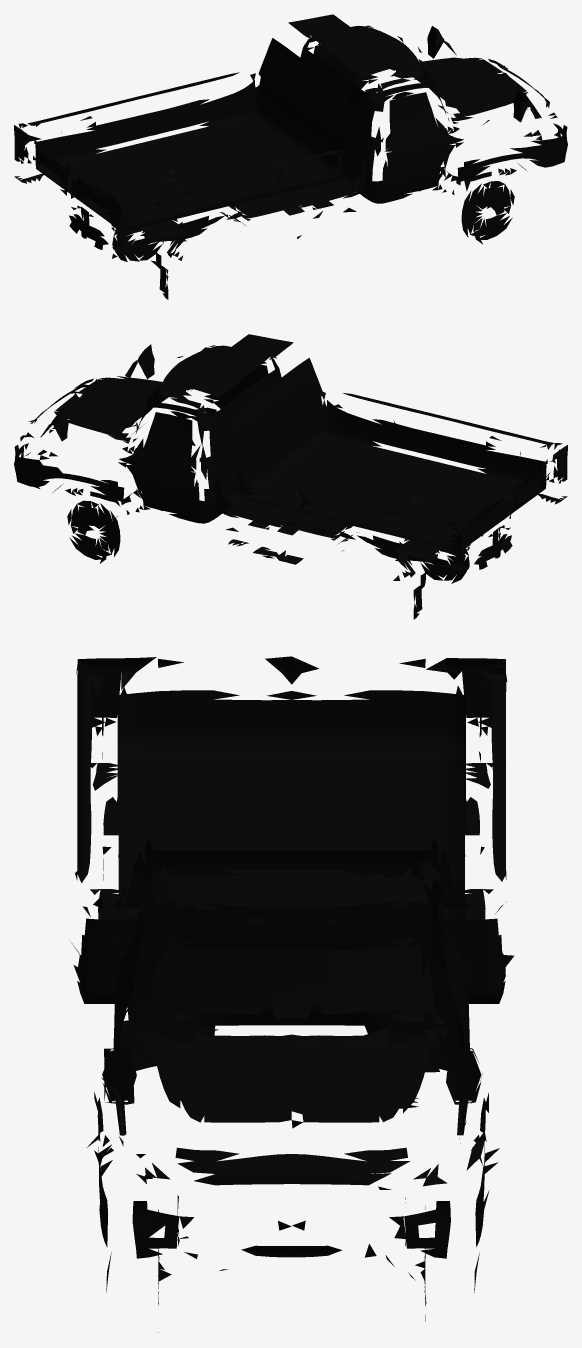
The model's file is v_tipper_lod1.glb.
3 views of the same model, one above another, from view 1: azimuth 30°, elevation 25°; view 2: azimuth 150°, elevation 25°; view 3: azimuth 270°, elevation 25° (orthographic). The views are drawn at different scales.
Visible parts, largest first — view 1: v_tipper_lod1; view 2: v_tipper_lod1; view 3: v_tipper_lod1.
Boxes of the visible parts, left/top/right/bottom form: v_tipper_lod1: left=14, top=14, right=567, bottom=299; v_tipper_lod1: left=14, top=334, right=567, bottom=619; v_tipper_lod1: left=71, top=656, right=513, bottom=1332.
Size of the model in its own units: 6.1 by 2.41 by 2.48.
Materials: 1 (1 with a texture image).
